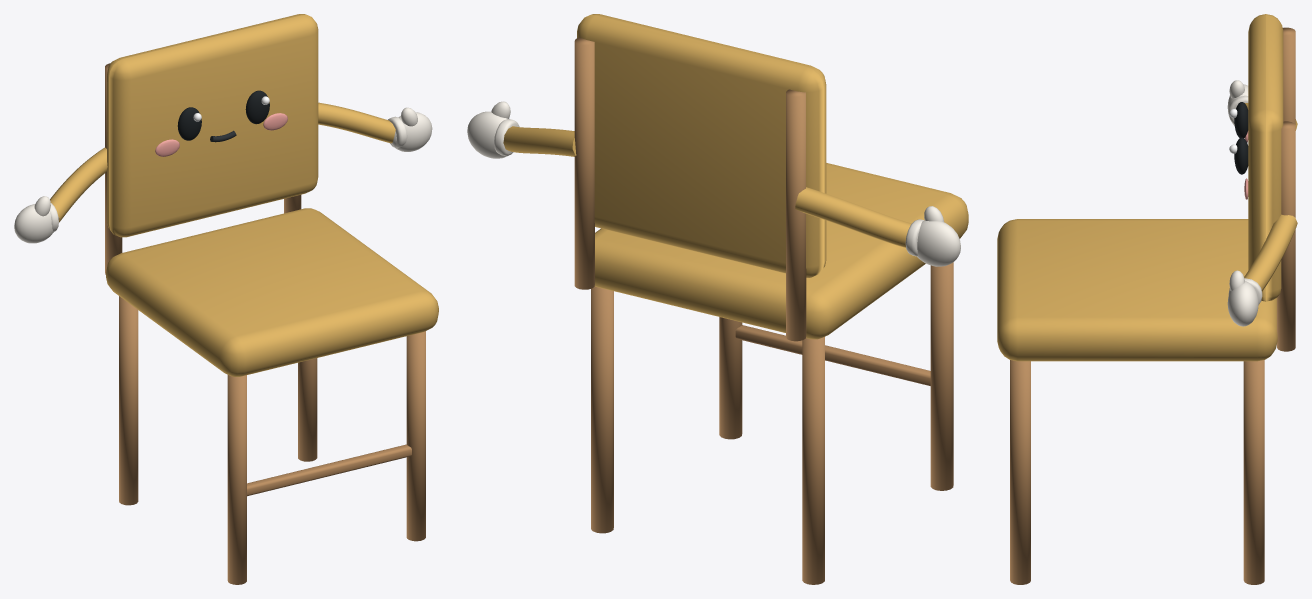
The model's file is chair-seat-back.glb.
The picture shows the model from 3 angles, left to right: view 1: azimuth 30°, elevation 25°; view 2: azimuth 150°, elevation 25°; view 3: azimuth 270°, elevation 25°; orthographic projection. The views are drawn at different scales.
Parts seen in each view (by area): view 1: Upholstery.008, Legs.006, Arm_L.008, Arm_R.008, Face_EyeR.008, Face_EyeL.008; view 2: Upholstery.008, Legs.006, Arm_L.008, Arm_R.008; view 3: Upholstery.008, Legs.006, Arm_R.008, Arm_L.008, Face_EyeR.008, Face_EyeL.008.
Part boxes in pixels (x1,y1,x2,y2): Upholstery.008: [106, 14, 438, 376]; Legs.006: [105, 63, 425, 584]; Arm_L.008: [14, 147, 107, 243]; Arm_R.008: [318, 102, 432, 151]; Face_EyeR.008: [245, 90, 269, 124]; Face_EyeL.008: [177, 107, 201, 140]; Upholstery.008: [577, 14, 968, 339]; Legs.006: [574, 37, 953, 584]; Arm_L.008: [795, 187, 960, 266]; Arm_R.008: [467, 101, 576, 158]; Upholstery.008: [997, 14, 1283, 361]; Legs.006: [1010, 27, 1295, 584]; Arm_R.008: [1227, 214, 1297, 326]; Arm_L.008: [1227, 80, 1297, 130]; Face_EyeR.008: [1234, 137, 1248, 174]; Face_EyeL.008: [1234, 102, 1248, 137].
Size of the model in its own units: 0.8834 by 0.89 by 0.5144.
